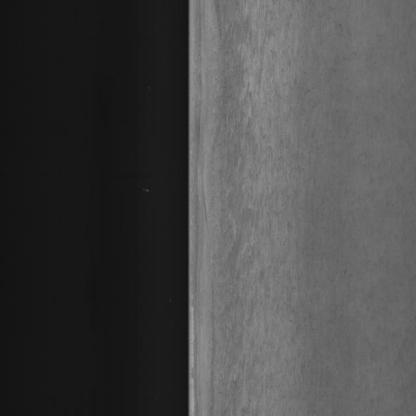silk_spot: (219, 21, 300, 388)
